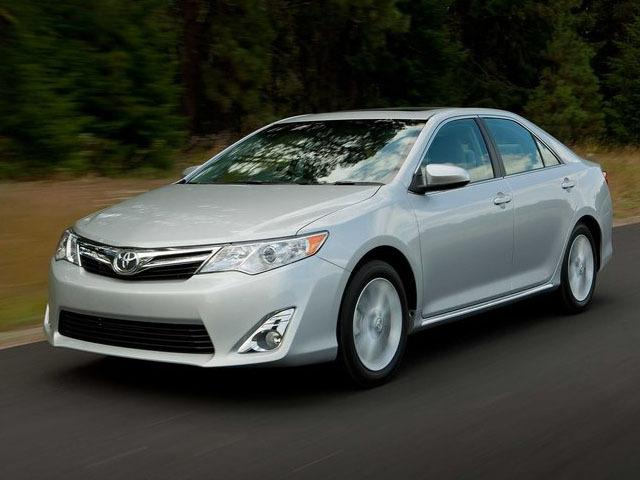Car: (16, 79, 625, 433)
